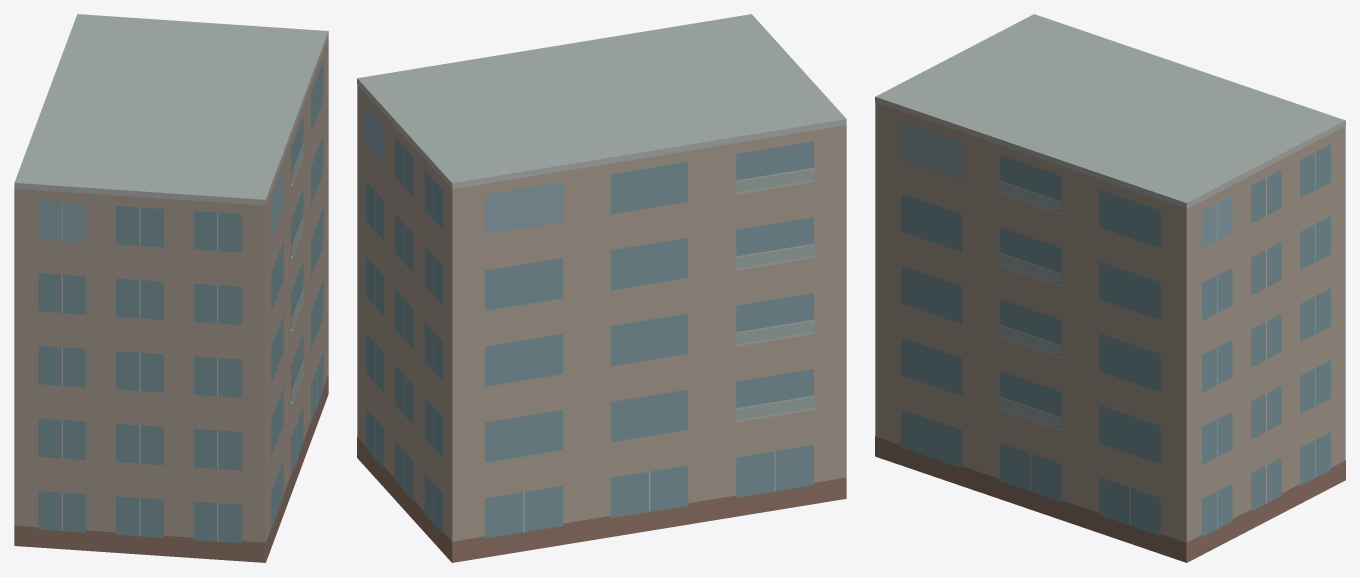
File: survey-upis-32911047.glb
3 views of the same model, side by side, from view 1: azimuth 30°, elevation 25°; view 2: azimuth 150°, elevation 25°; view 3: azimuth 270°, elevation 25° (orthographic). The views are drawn at different scales.
Visible parts, largest first — view 1: survey-upis-32911047.tmp; view 2: survey-upis-32911047.tmp; view 3: survey-upis-32911047.tmp.
Boxes of the visible parts, box(x1,y1,x2,y2) form: survey-upis-32911047.tmp: box(14, 14, 328, 562); survey-upis-32911047.tmp: box(357, 14, 846, 562); survey-upis-32911047.tmp: box(875, 14, 1345, 562).
Size of the model in its own units: 17.32 by 15.35 by 18.21.
